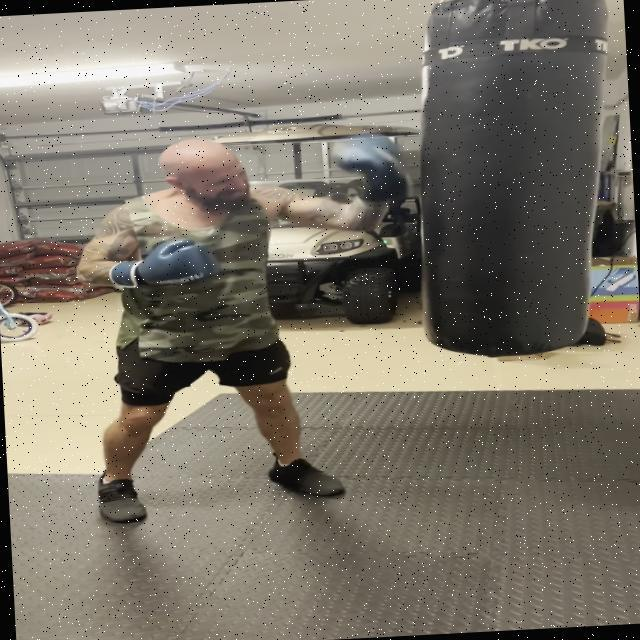bag: (413, 0, 627, 369)
uppercut: (71, 122, 418, 310)
